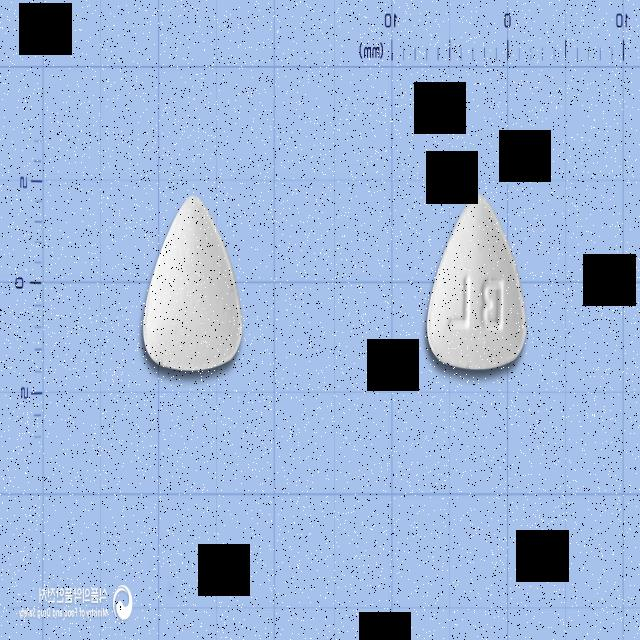Baracle -1mg: (139, 190, 245, 379), (423, 192, 529, 375)
